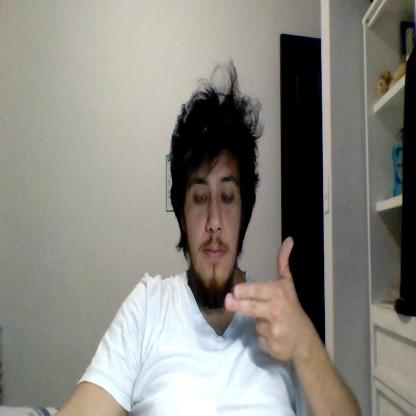H: (224, 235, 298, 361)
